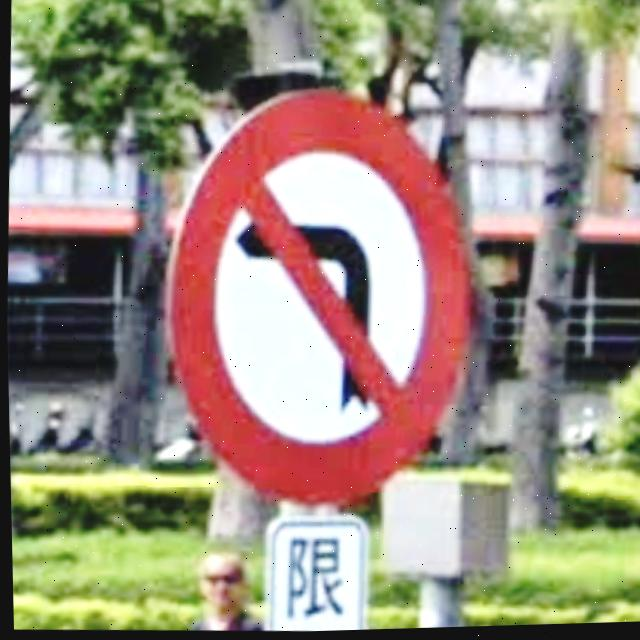noturnleft: (165, 90, 468, 502)
